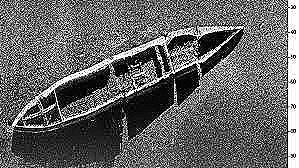ship: (10, 25, 245, 135)
